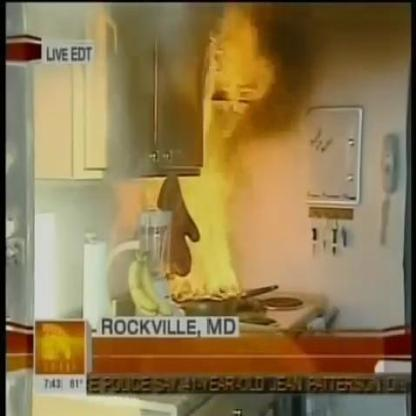fire: (164, 1, 276, 294)
